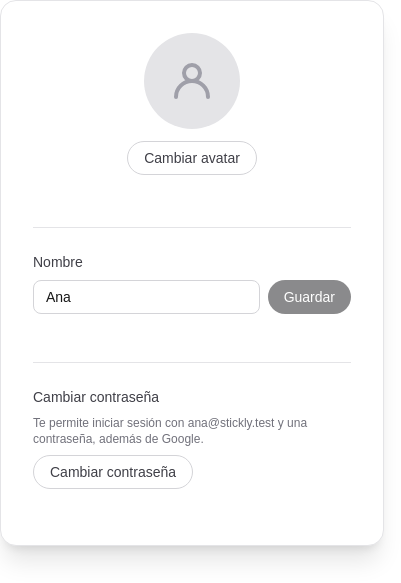
ProfileForm › saves the name with Enter and confirms it
Replace the text in the field labelled "Nombre" with "Ana María" at (146, 297), box top-left (33, 280), bottom-right (260, 314)
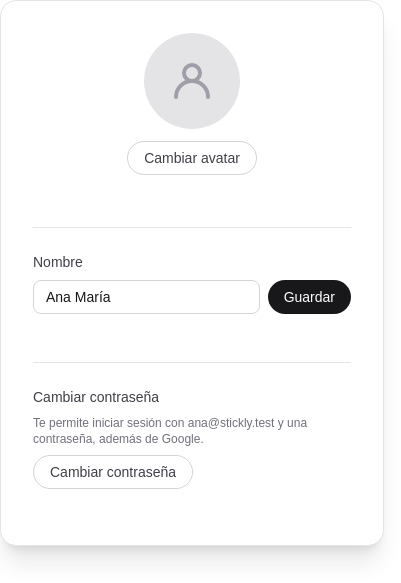
Submit the form labelled "Nombre", box top-left (33, 228), bottom-right (351, 363)
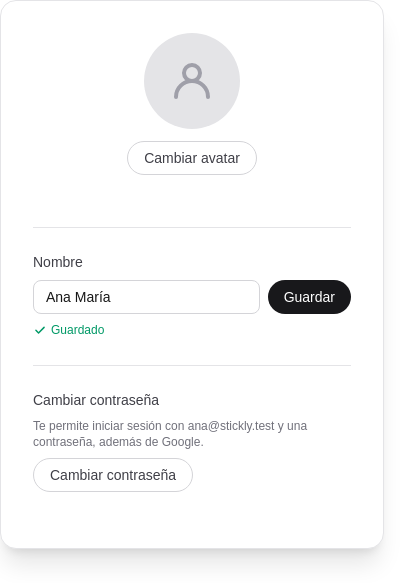
Expected: the text "Guardado" is shown, top-left (33, 322), bottom-right (104, 338)
